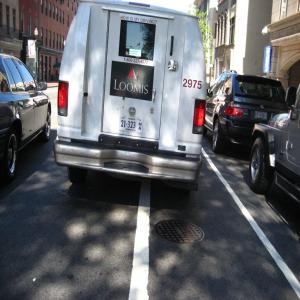Vehicle-registration-plate: (120, 115, 144, 135), (255, 112, 268, 122)
